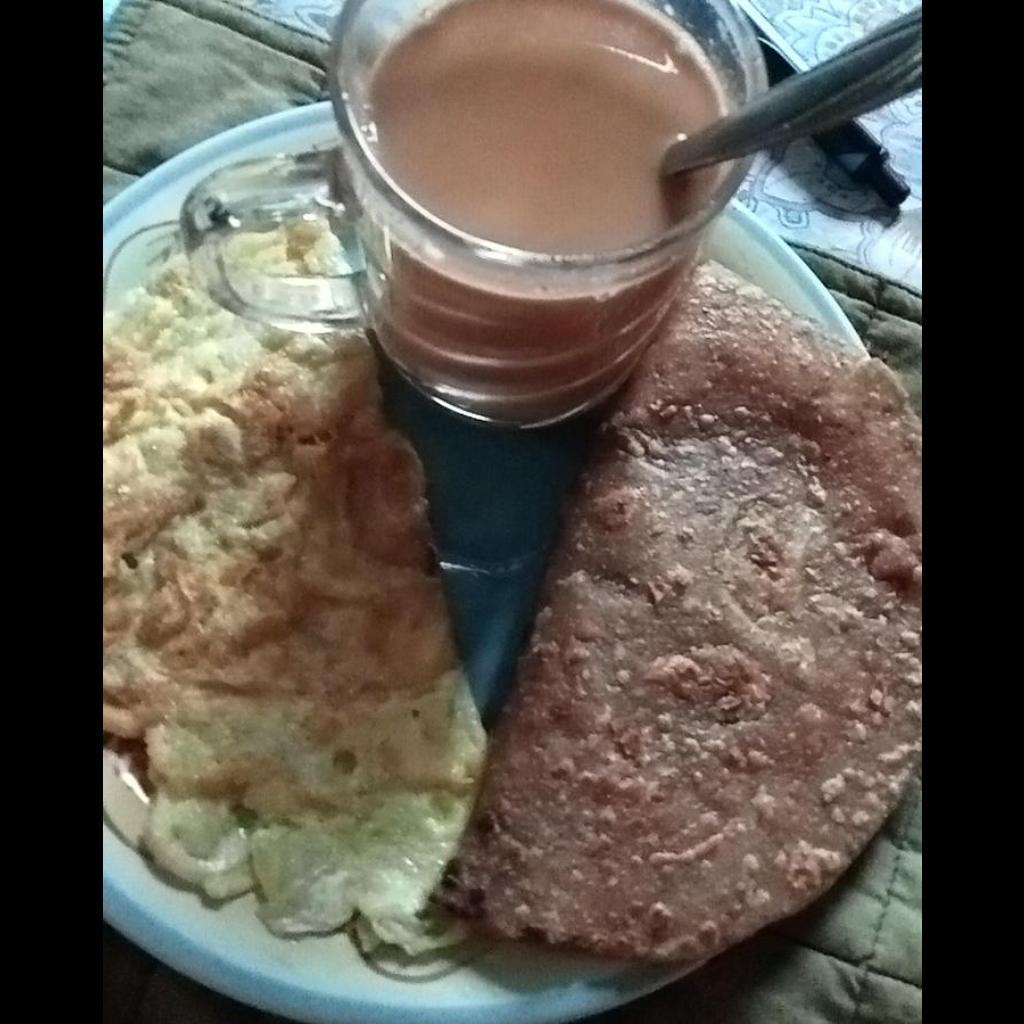cha: (362, 2, 730, 260)
egg-poached: (107, 256, 481, 962)
ruti: (455, 256, 919, 955)
